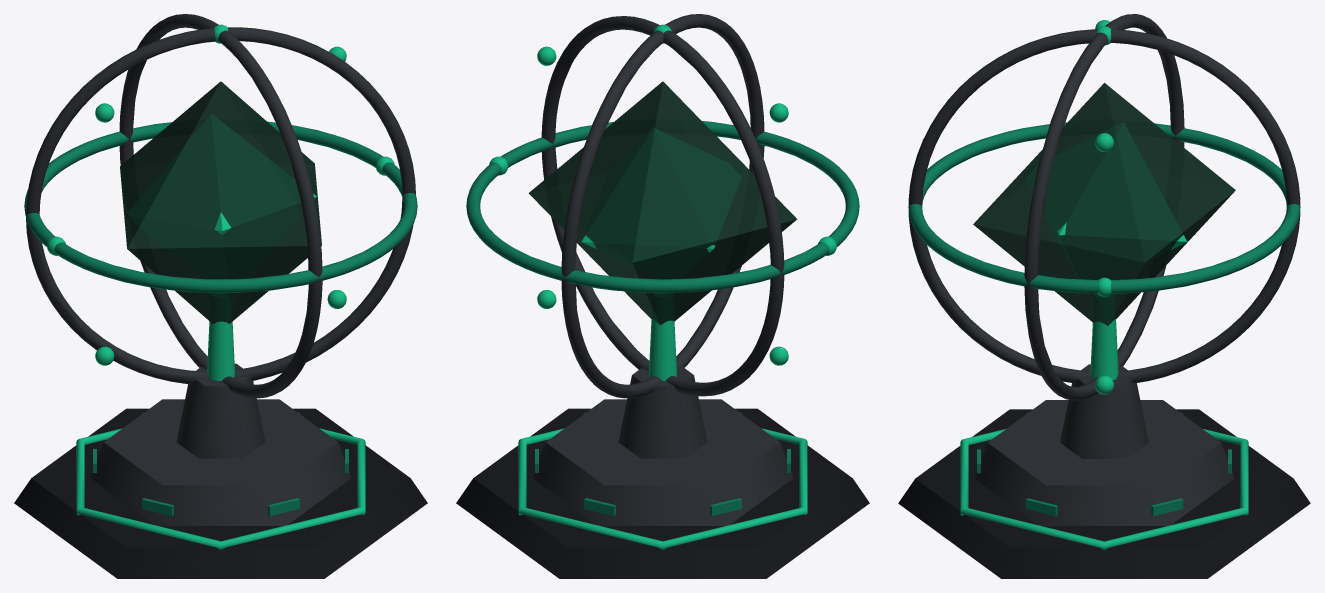
File: data-core.glb
3 views of the same model, side by side, from view 1: azimuth 30°, elevation 25°; view 2: azimuth 150°, elevation 25°; view 3: azimuth 270°, elevation 25° (orthographic).
Parts seen in each view (by area): view 1: gimbal_y, core_shell, base_tier1, gimbal_x, energy_core; view 2: gimbal_y, core_shell, base_tier1, gimbal_x, energy_core; view 3: gimbal_y, core_shell, base_tier1, gimbal_x, energy_core.
Part boxes in pixels (bbox=[...]): gimbal_y: bbox=[26, 14, 415, 525]; core_shell: bbox=[120, 81, 321, 323]; base_tier1: bbox=[14, 408, 427, 578]; gimbal_x: bbox=[24, 121, 417, 515]; energy_core: bbox=[47, 24, 394, 550]; gimbal_y: bbox=[532, 14, 793, 525]; core_shell: bbox=[528, 81, 797, 325]; base_tier1: bbox=[456, 408, 869, 578]; gimbal_x: bbox=[466, 121, 859, 515]; energy_core: bbox=[489, 24, 836, 550]; gimbal_y: bbox=[908, 14, 1300, 525]; core_shell: bbox=[973, 83, 1235, 325]; base_tier1: bbox=[898, 409, 1310, 578]; gimbal_x: bbox=[908, 122, 1300, 516]; energy_core: bbox=[960, 20, 1248, 550].
Size of the model in its own units: 1.16 by 1.53 by 1.2.
